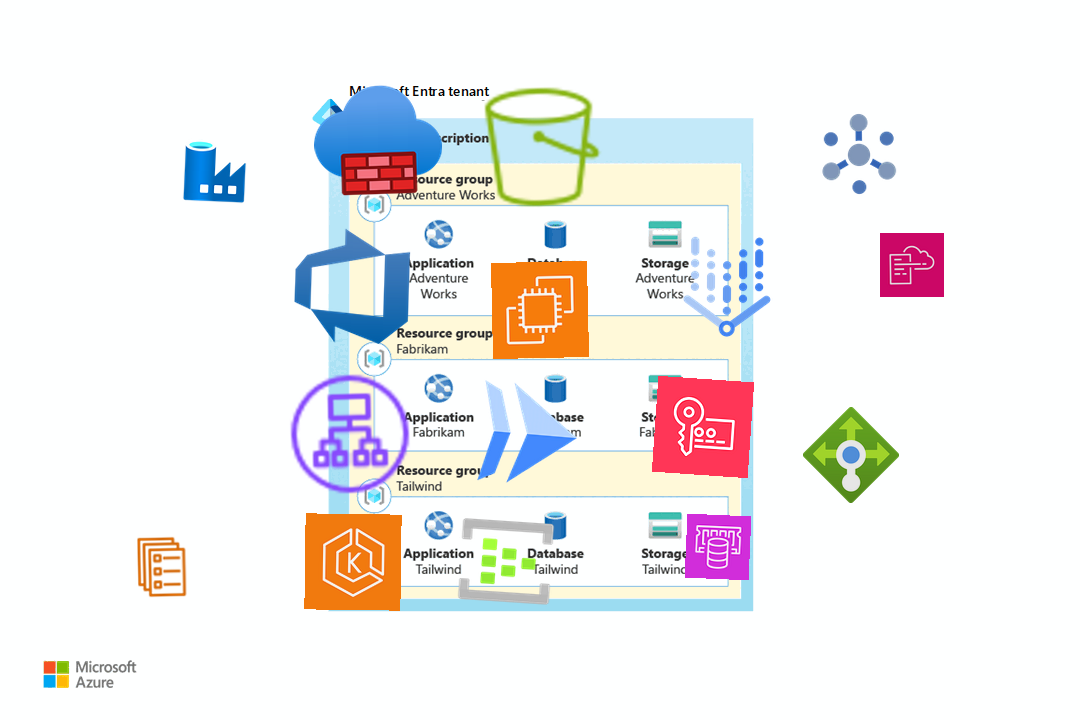aws_amazon_ec2: (490, 260, 590, 360)
aws_amazon_elastic_kubernetes_service: (304, 513, 402, 611)
aws_amazon_elasticache: (684, 513, 752, 581)
aws_cloudformation: (879, 232, 945, 298)
aws_elastic_container_service_service: (129, 534, 195, 600)
aws_elastic_load_balancing_application_load_balancer: (284, 368, 416, 500)
aws_key_management_service: (651, 375, 755, 479)
aws_simple_storage_service_bucket: (476, 81, 608, 213)
azure_data_factories: (181, 137, 249, 205)
azure_devops: (286, 220, 418, 352)
azure_event_hubs: (454, 509, 558, 613)
azure_firewalls: (311, 73, 445, 207)
azure_load_balancers: (802, 406, 900, 504)
gcp_cloud_run: (457, 364, 597, 504)
gcp_pubsub: (810, 105, 908, 203)
gcp_vertex_ai: (662, 222, 792, 352)
